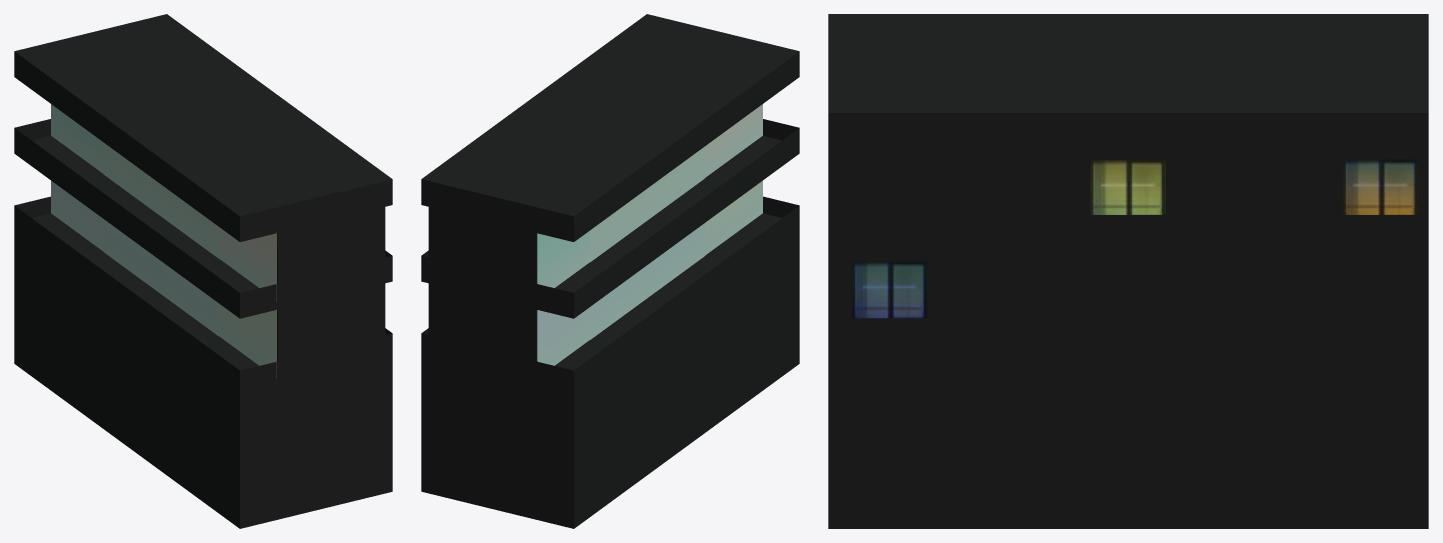
The model's file is AMB_APART00.glb.
The picture shows the model from 3 angles, left to right: view 1: azimuth 30°, elevation 25°; view 2: azimuth 150°, elevation 25°; view 3: azimuth 270°, elevation 25°; orthographic projection. The views are drawn at different scales.
Visible parts, largest first — view 1: BASE; view 2: BASE; view 3: BASE.
Boxes of the visible parts, x1,y1,x2,y2 form: BASE: (14,14,392,528); BASE: (421,14,799,528); BASE: (828,14,1428,528).
Size of the model in its own units: 34.72 by 67.94 by 88.93.
Materials: 4 (4 with a texture image).
